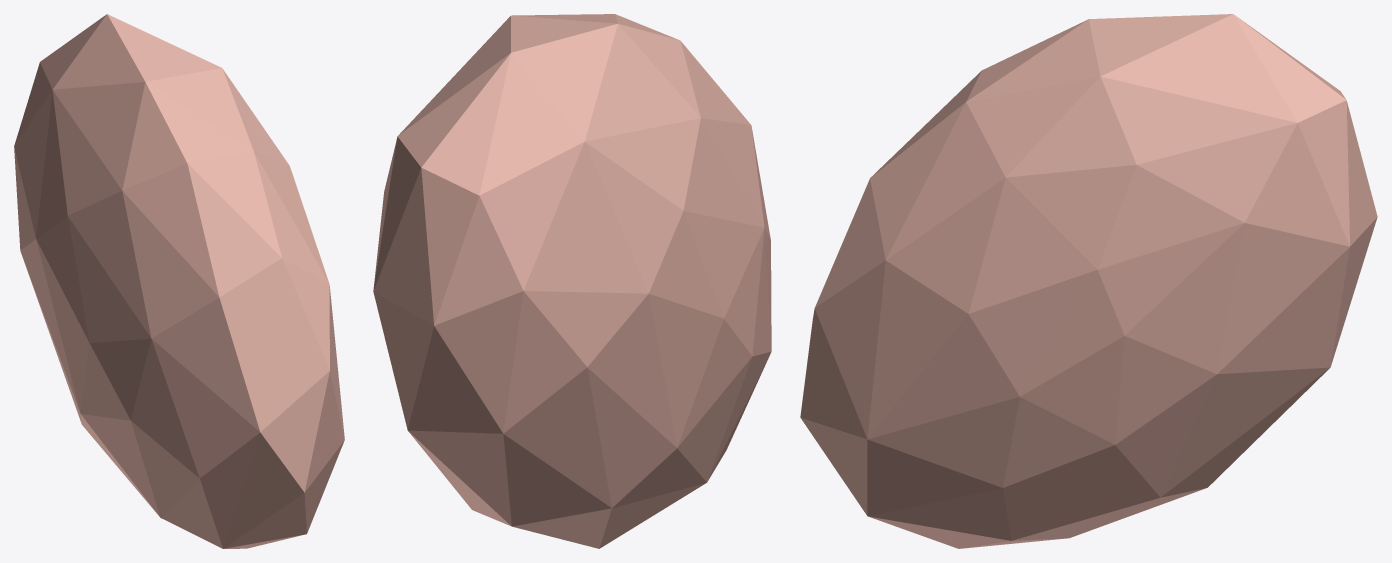
File: Selenite.fbx
3 views of the same model, side by side, from view 1: azimuth 30°, elevation 25°; view 2: azimuth 150°, elevation 25°; view 3: azimuth 270°, elevation 25° (orthographic). The views are drawn at different scales.
Parts seen in each view (by area): view 1: Sphere.001; view 2: Sphere.001; view 3: Sphere.001.
Part boxes in pixels (x1=…): Sphere.001: x1=14, y1=14, x2=344, y2=548; Sphere.001: x1=373, y1=14, x2=771, y2=548; Sphere.001: x1=800, y1=14, x2=1377, y2=548.
Size of the model in its own units: 148 by 305 by 304.
